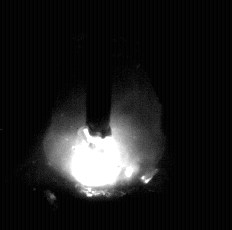arame: (87, 0, 112, 138)
poca: (42, 0, 165, 230)
